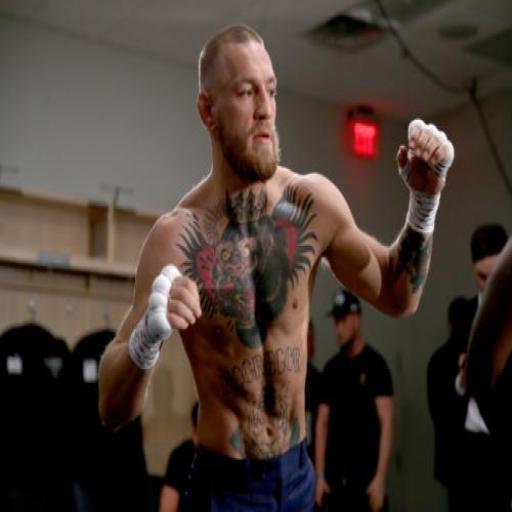boxing: (95, 22, 455, 510)
